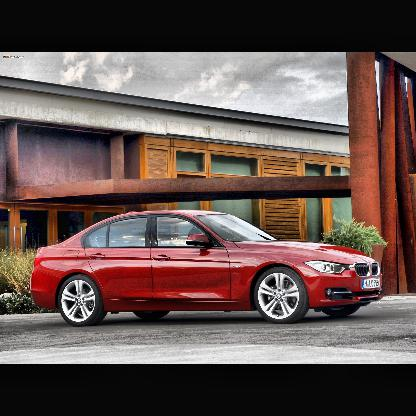BMW 3 Series Sedan 2012: (29, 207, 386, 327)
